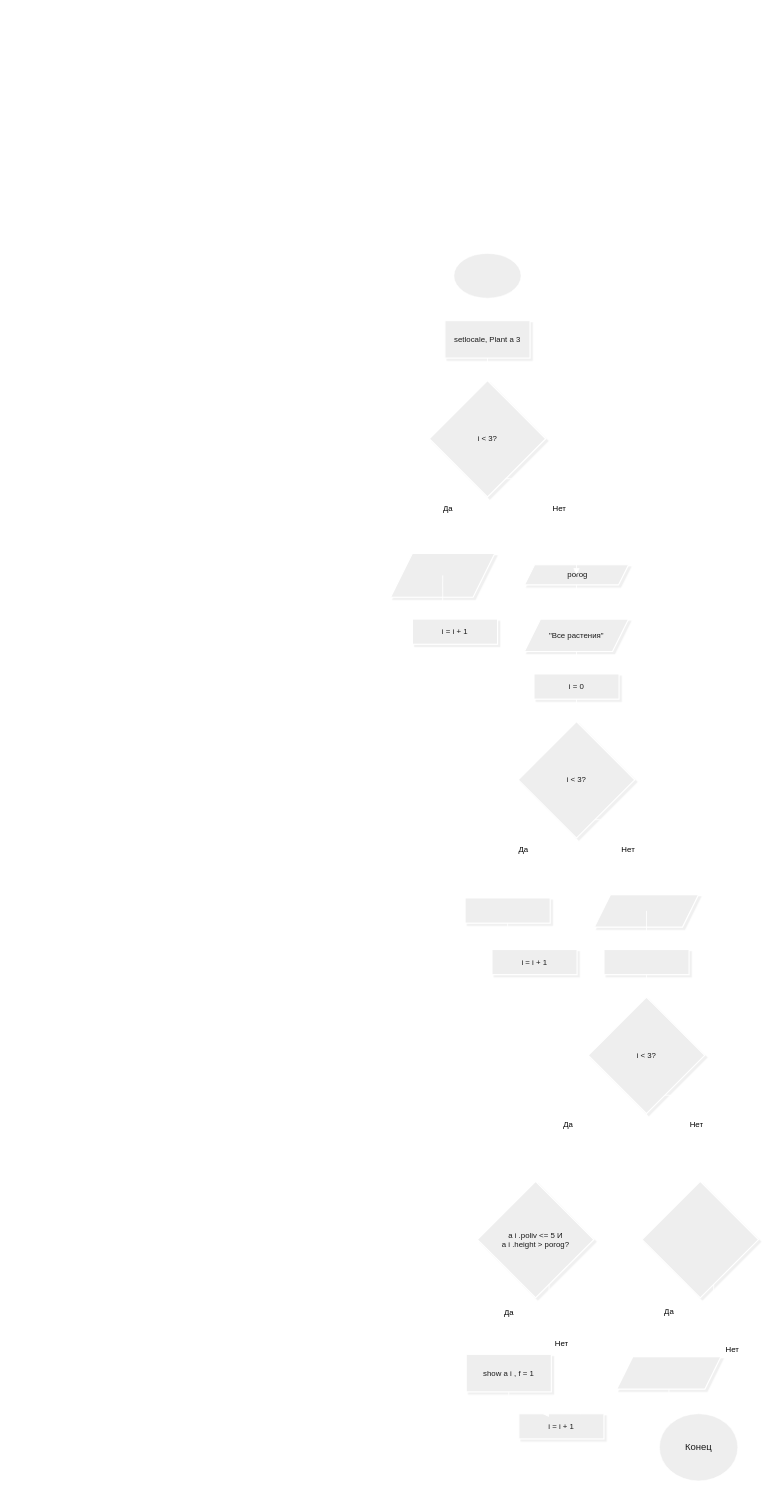
Image size: 771x1491. Some labels were removed from this diagram. The centre of each missing label's shape, as x and y in pixels:
"Нет таких растений": (x=670, y=1374)
"Фильтр по поливу и высоте": (x=647, y=912)
f = 0, i = 0: (x=647, y=963)
f == 0?: (x=701, y=1240)
name, vid, posad, height, poliv: (x=443, y=576)
Вызов show a i: (x=508, y=911)
Начало: (x=487, y=275)
